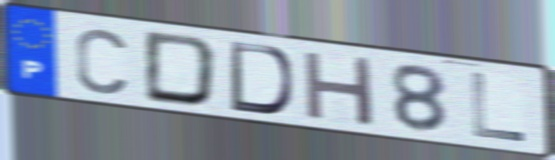8: (388, 61, 450, 135)
C: (72, 25, 129, 97)
D: (142, 29, 222, 109), (226, 39, 296, 117)
H: (300, 48, 378, 129)
L: (467, 70, 529, 145)
